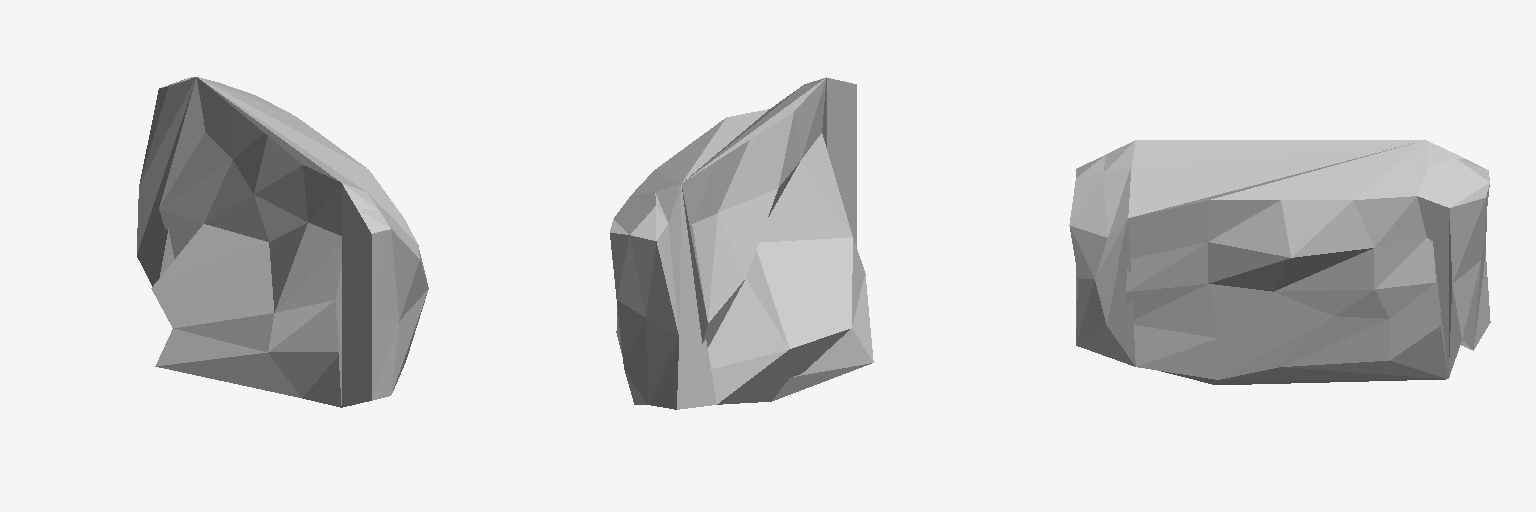
File: Veins5.obj
3 renders of one model, left to right at view 1: azimuth 30°, elevation 25°; view 2: azimuth 150°, elevation 25°; view 3: azimuth 270°, elevation 25°, orthographic.
Visible parts, largest first — view 1: Cube.001; view 2: Cube.001; view 3: Cube.001.
Boxes of the visible parts, x1,y1,x2,y2 form: Cube.001: [137, 77, 428, 407]; Cube.001: [610, 77, 873, 409]; Cube.001: [1069, 140, 1490, 384].
Size of the model in its own units: 7.46 by 8.46 by 13.18.